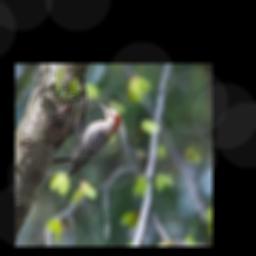Woodpecker: (50, 101, 120, 176)
